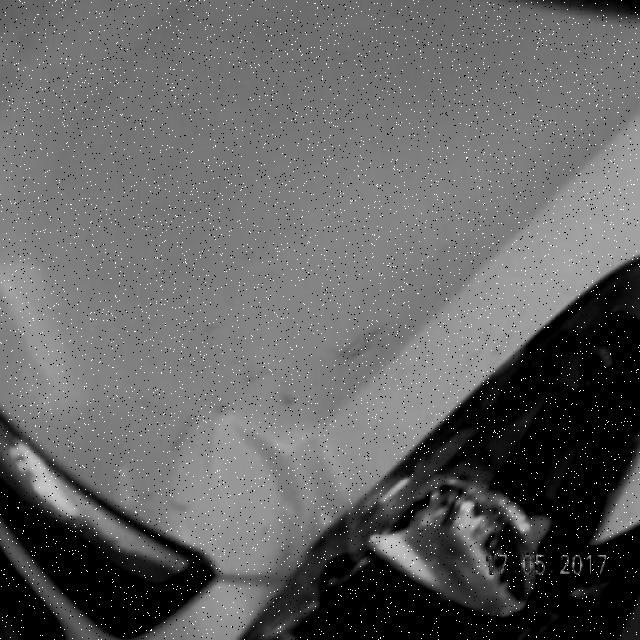car damage: (280, 292, 640, 637), (202, 413, 350, 580)
